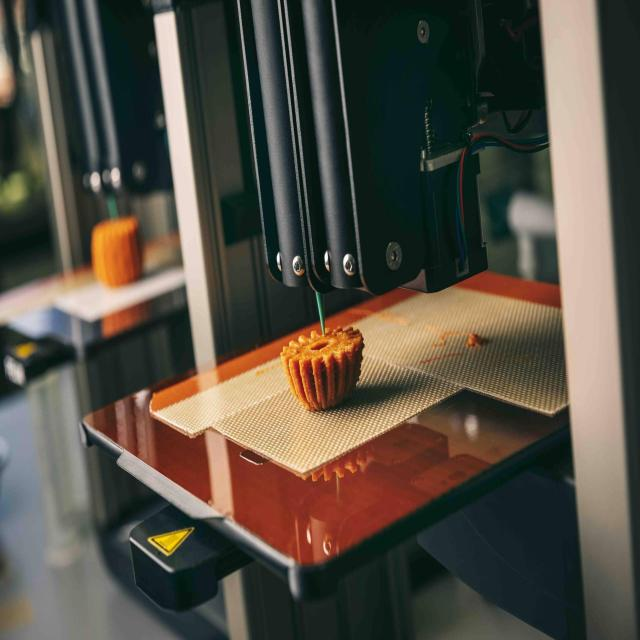Without deffect: (265, 283, 374, 422)
